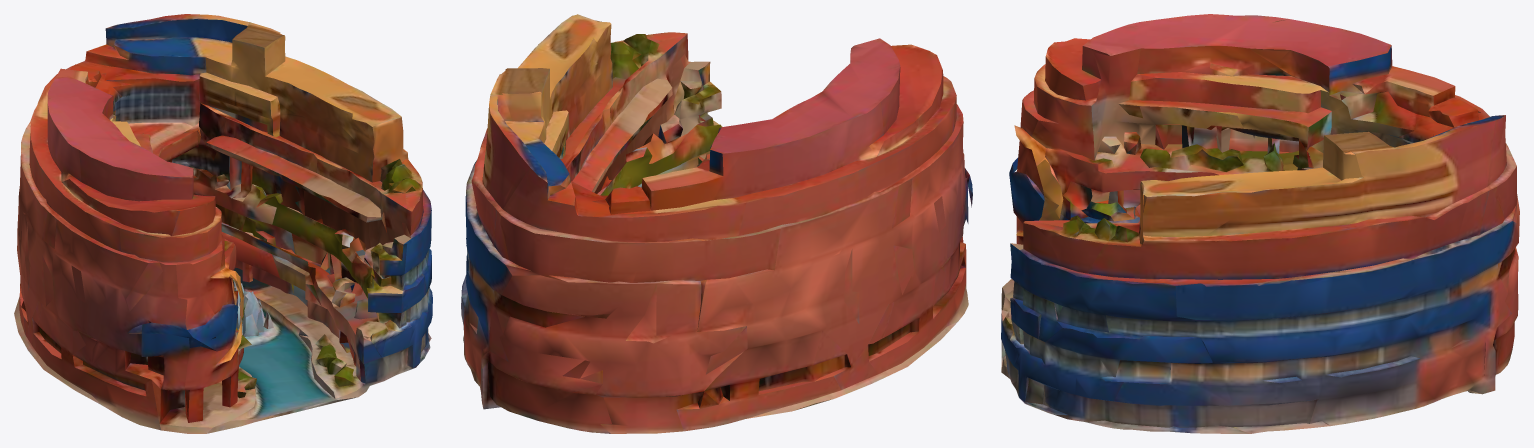
Rendered from canal-city-hakata.glb.
3 renders of one model, left to right at view 1: azimuth 30°, elevation 25°; view 2: azimuth 150°, elevation 25°; view 3: azimuth 270°, elevation 25°, orthographic. The views are drawn at different scales.
Parts seen in each view (by area): view 1: logan-textured.obj; view 2: logan-textured.obj; view 3: logan-textured.obj.
Boxes of the visible parts, left/top/right/bottom form: logan-textured.obj: left=14, top=14, right=432, bottom=433; logan-textured.obj: left=461, top=14, right=972, bottom=433; logan-textured.obj: left=1001, top=14, right=1519, bottom=433.
Size of the model in its own units: 0.8686 by 0.5673 by 1.
1 material, 1 textured.
